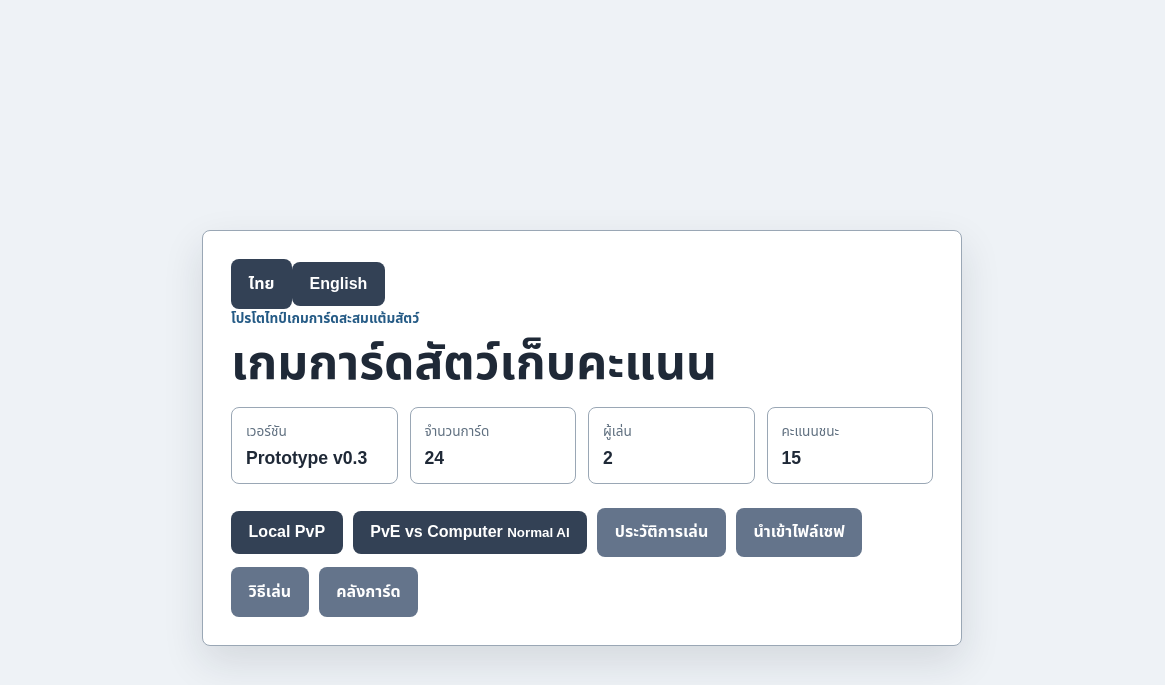
Test: App Phase 4 UI › renders all 24 cards in the Card Library
The width and height of the screenshot is (1165, 685).
Click the button "คลังการ์ด": (368, 592) top-left (319, 567), bottom-right (418, 617)
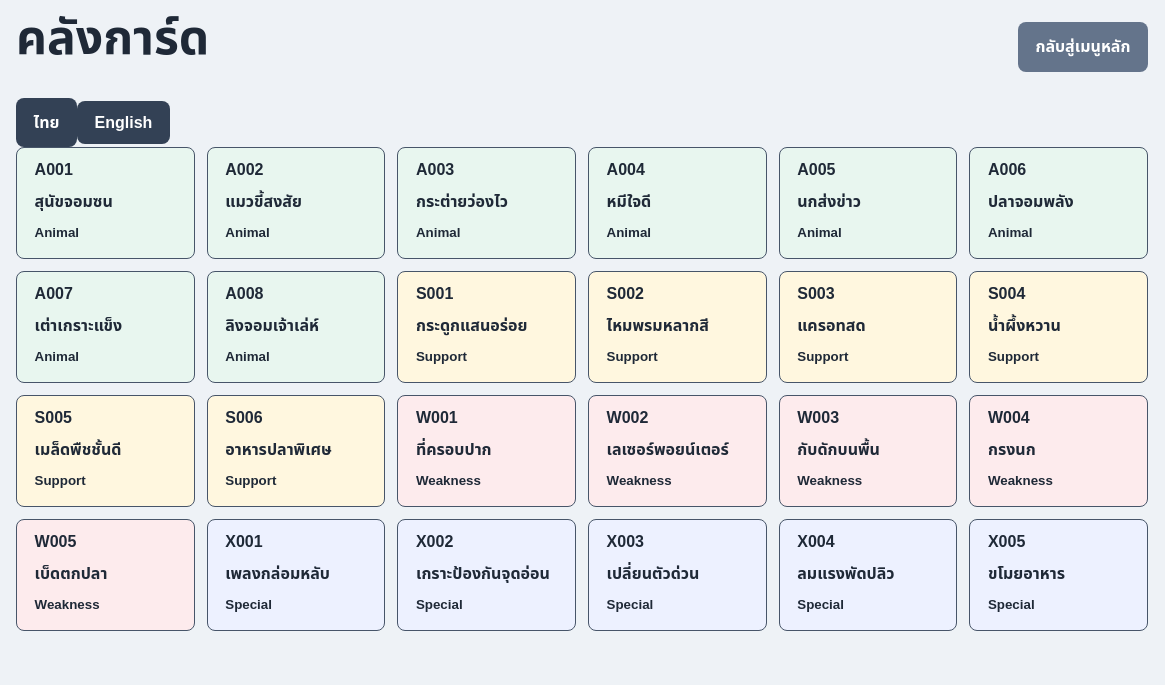
Now the number of buttons with class "library-card" is 24
